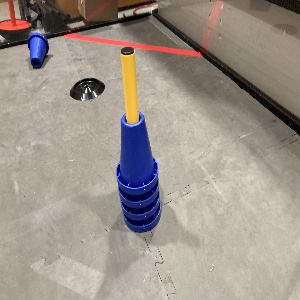Blue_4: (112, 108, 164, 236)
